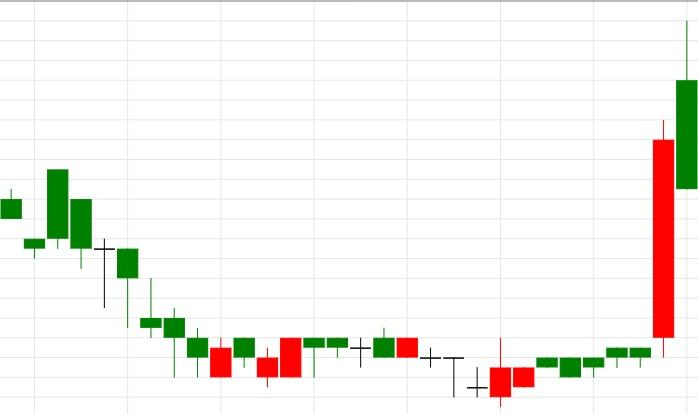bullish_engulfing_rise: (48, 169, 232, 378)
